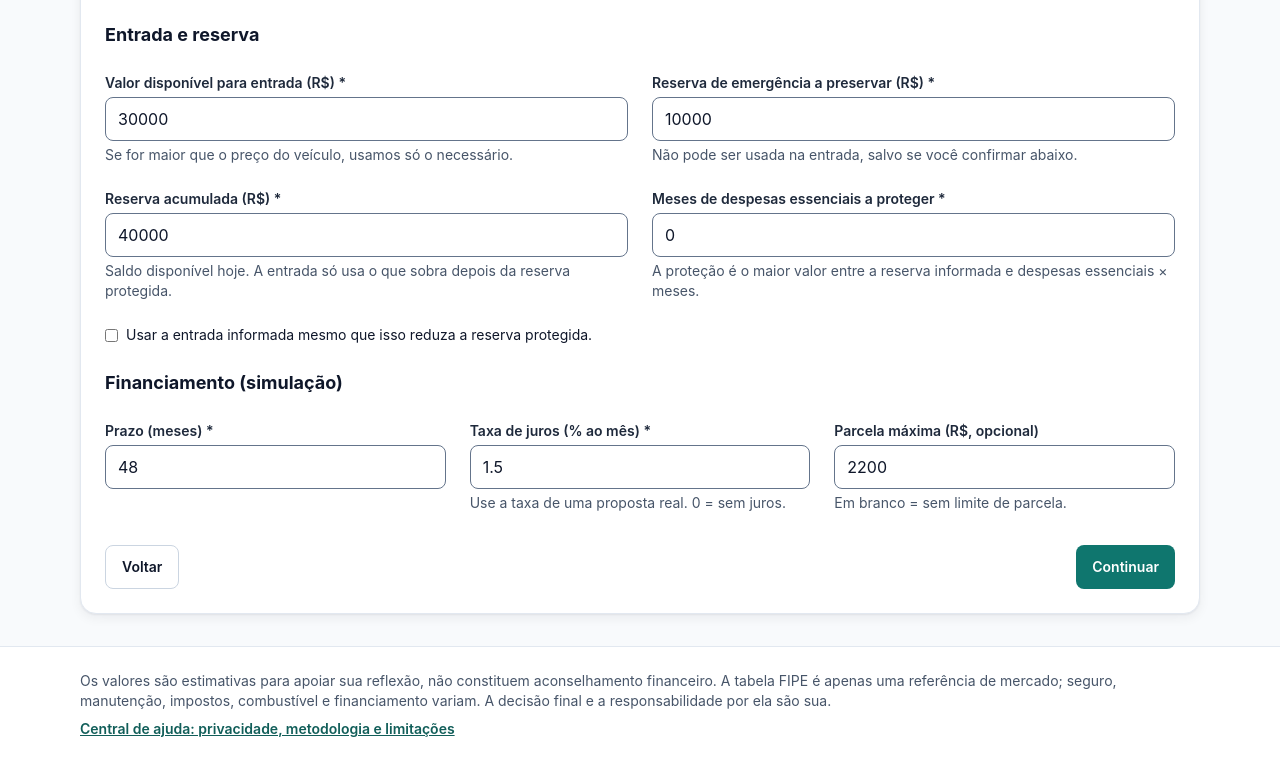
Test: falhas da API FIPE › erro network mostra mensagem específica e permite voltar
Earlier steps of the test are not shown.
(page scrolled)
Click the button "Continuar": (1126, 567) left=1076, top=545, right=1175, bottom=589
(page scrolled)
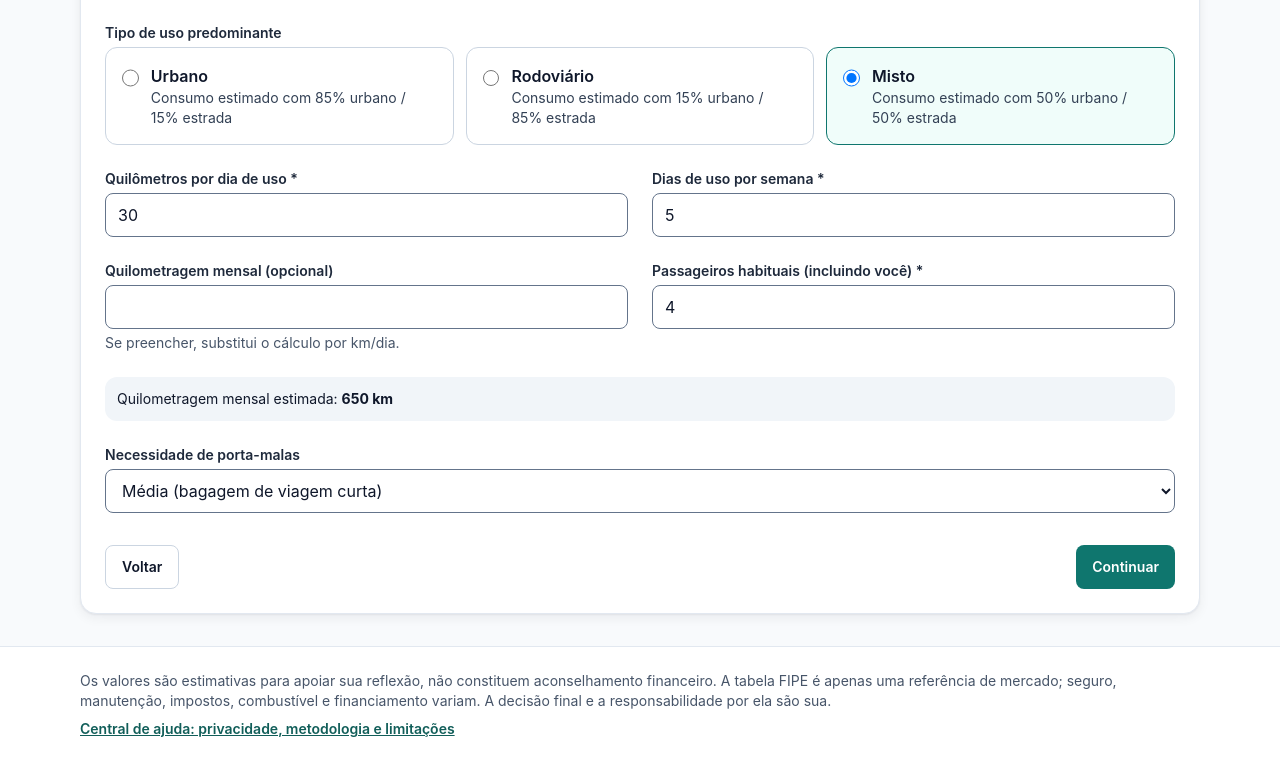
Click the button "Continuar": (1126, 567) left=1076, top=545, right=1175, bottom=589
(page scrolled)
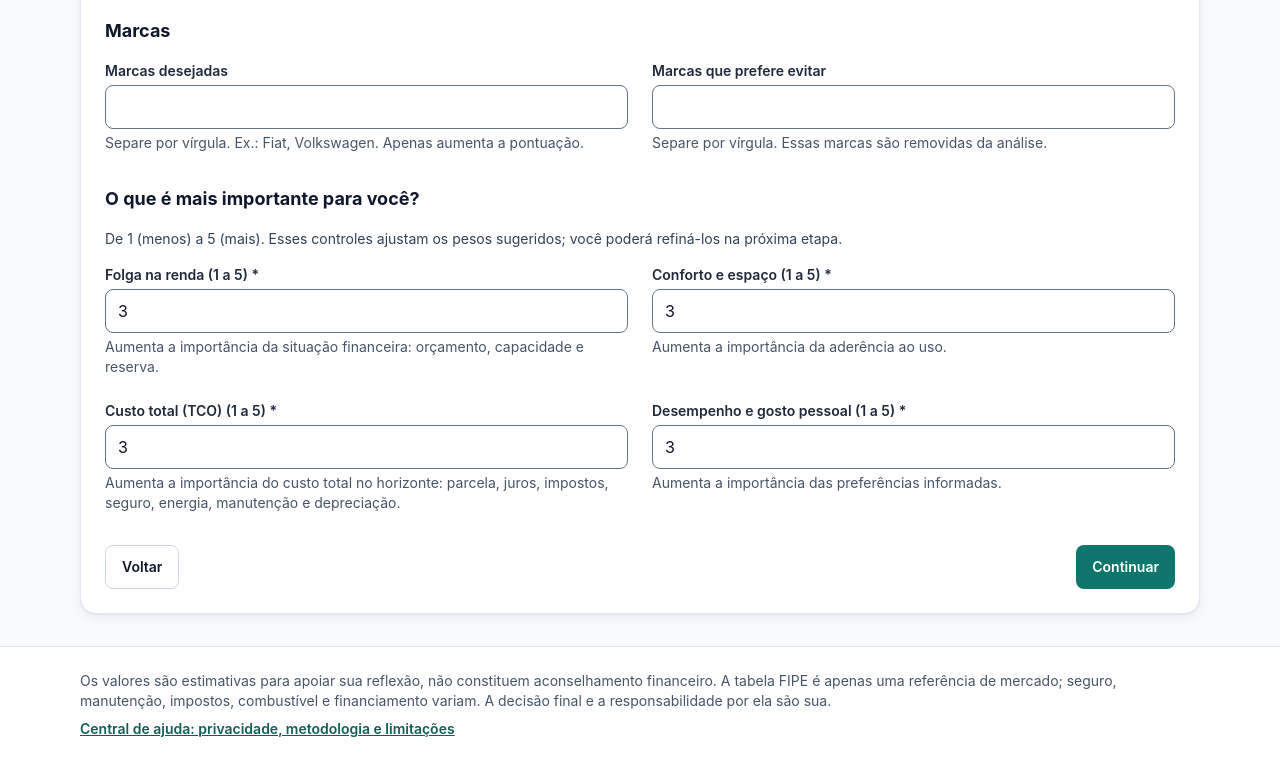
Click the button "Continuar": (1126, 567) left=1076, top=545, right=1175, bottom=589
(page scrolled)
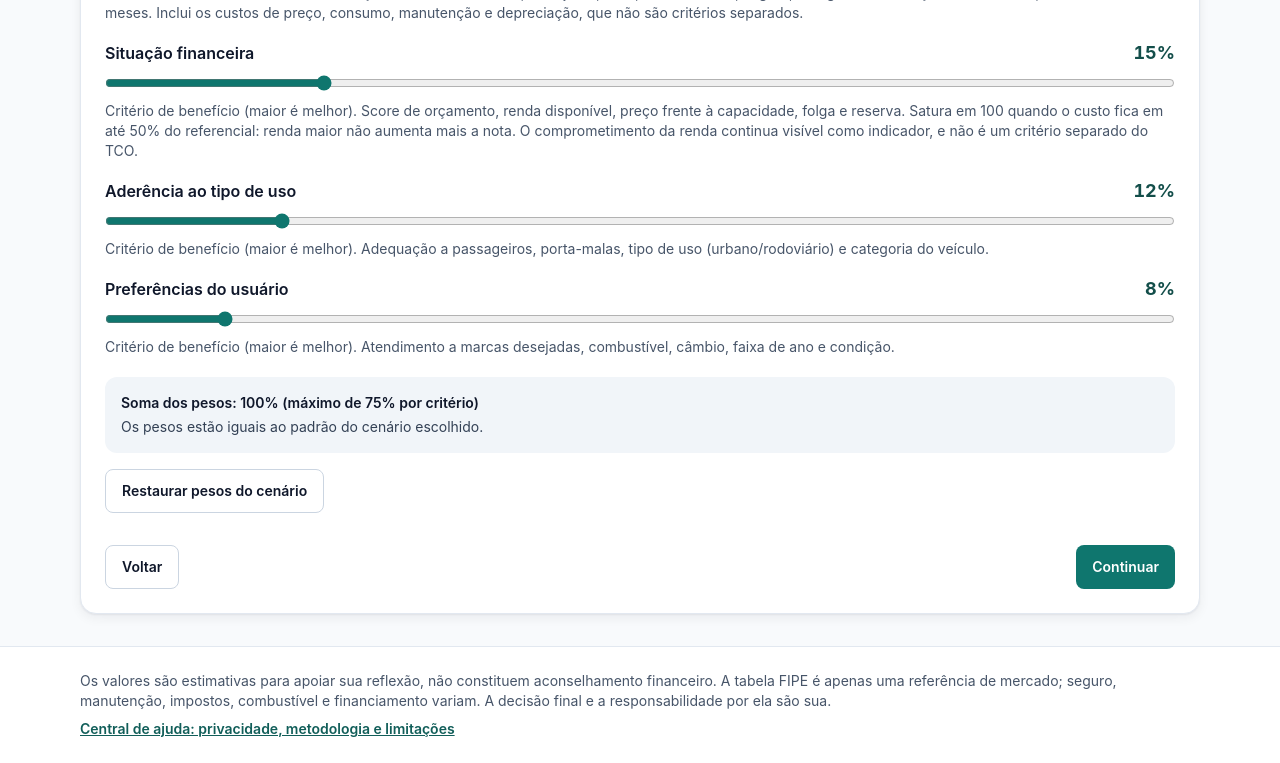
Click the button "Continuar": (1126, 567) left=1076, top=545, right=1175, bottom=589
(page scrolled)
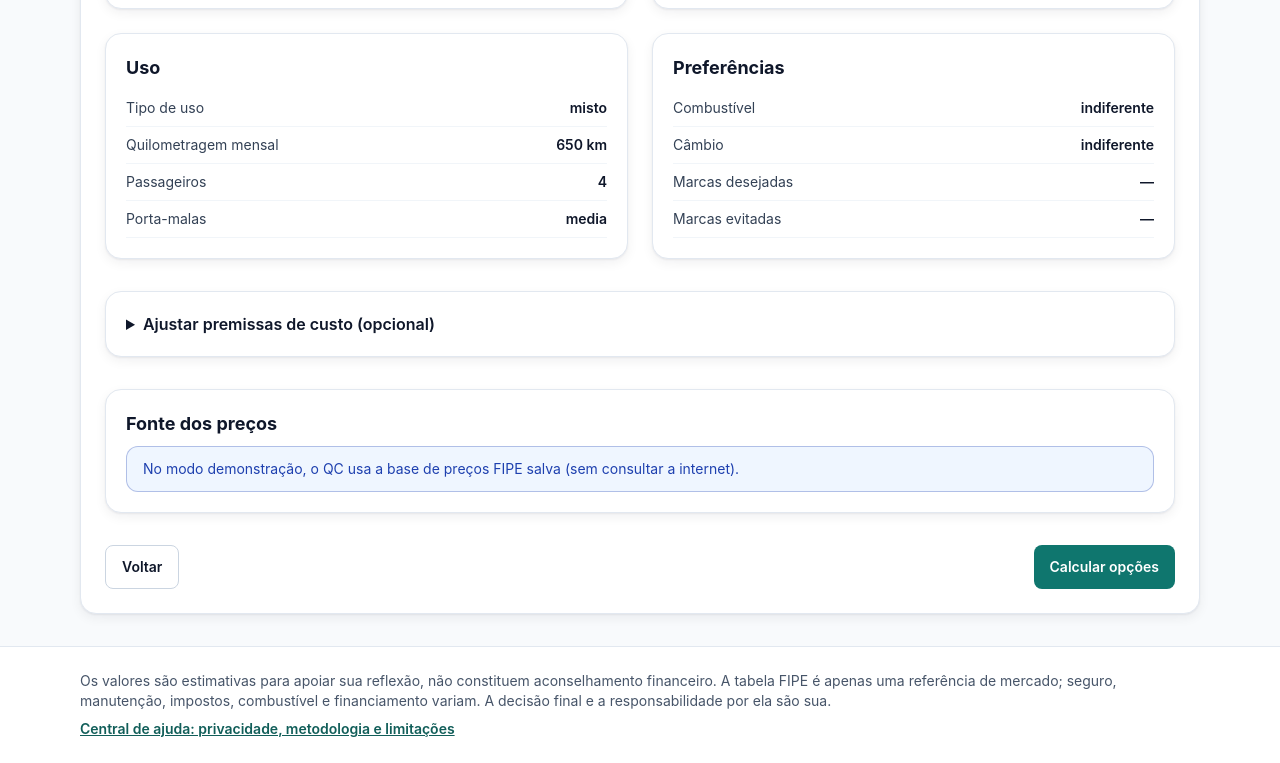
Click the button "Calcular opções": (1104, 567) left=1034, top=545, right=1175, bottom=589
(page scrolled)
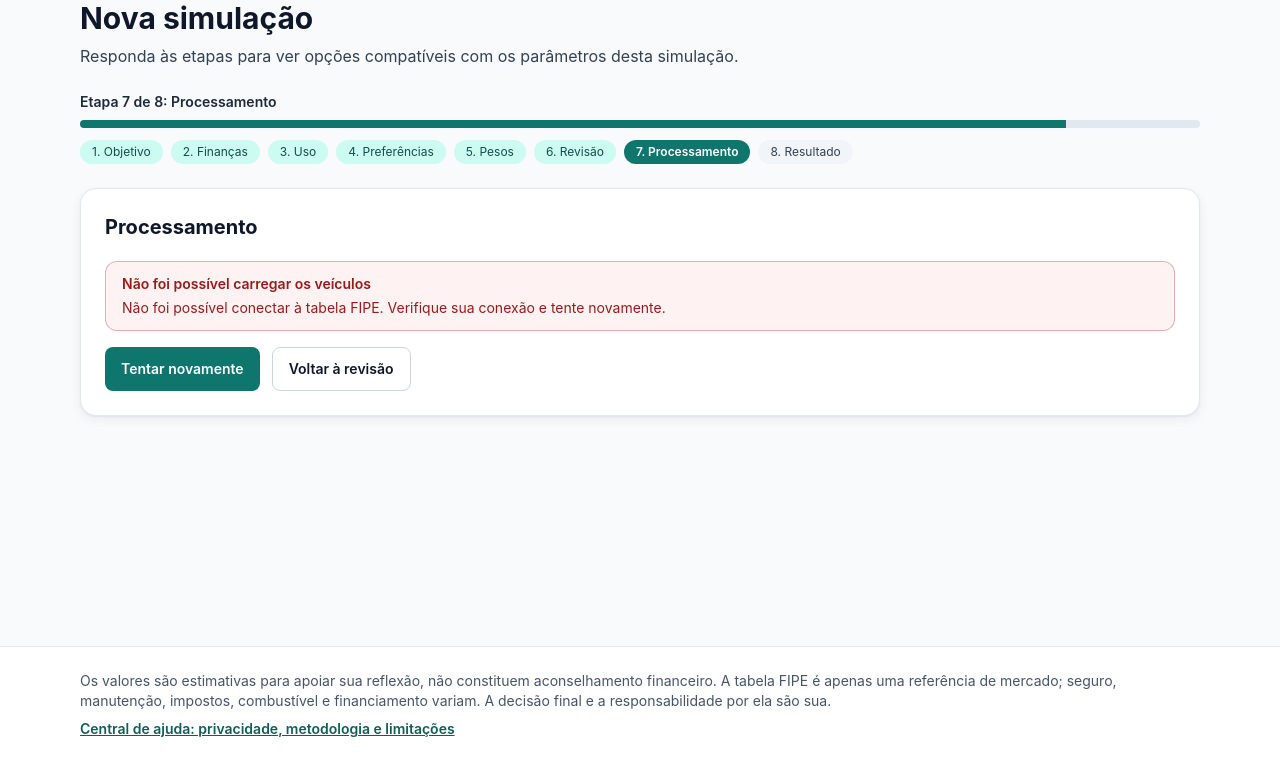
Check: the text "Não foi possível conectar à tabela FIPE" is shown, box left=122, top=299, right=666, bottom=316
Click the button "Voltar à revisão": (341, 369) left=272, top=347, right=410, bottom=391
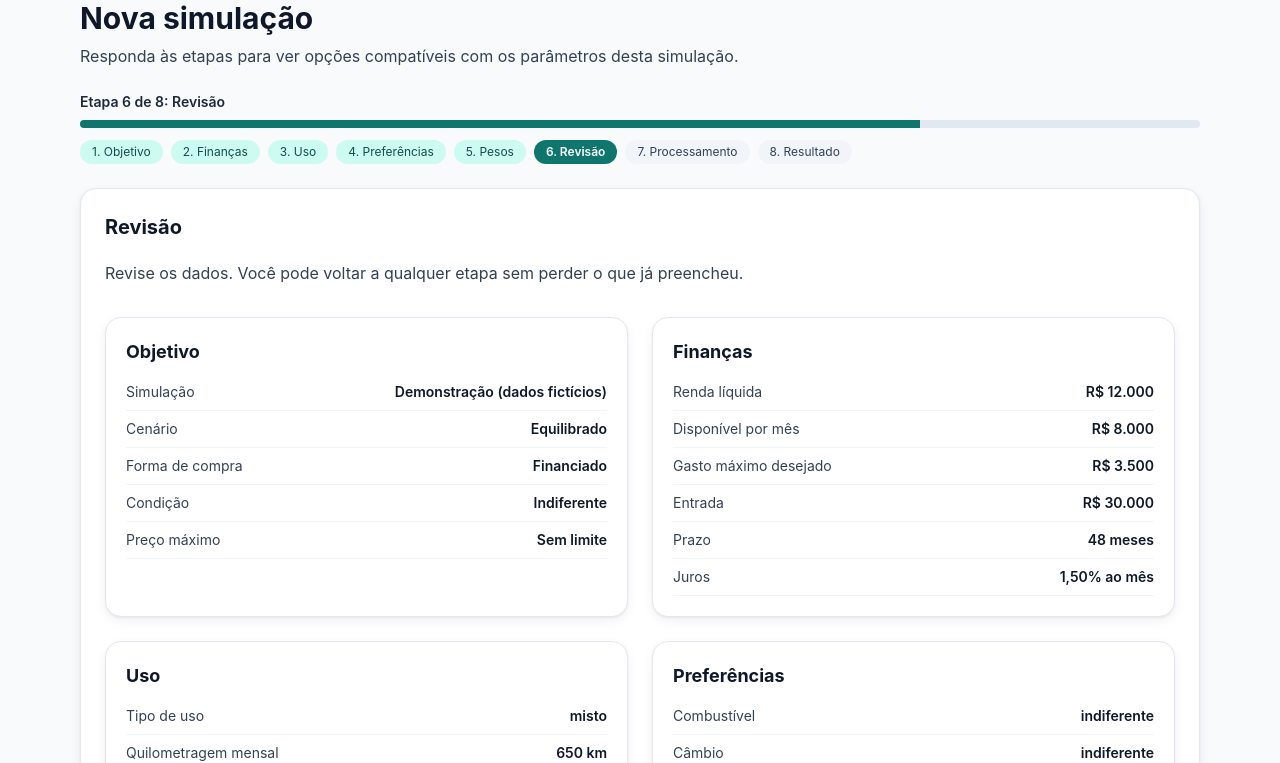
Check: the heading "Revisão" is shown, box left=105, top=215, right=182, bottom=239
